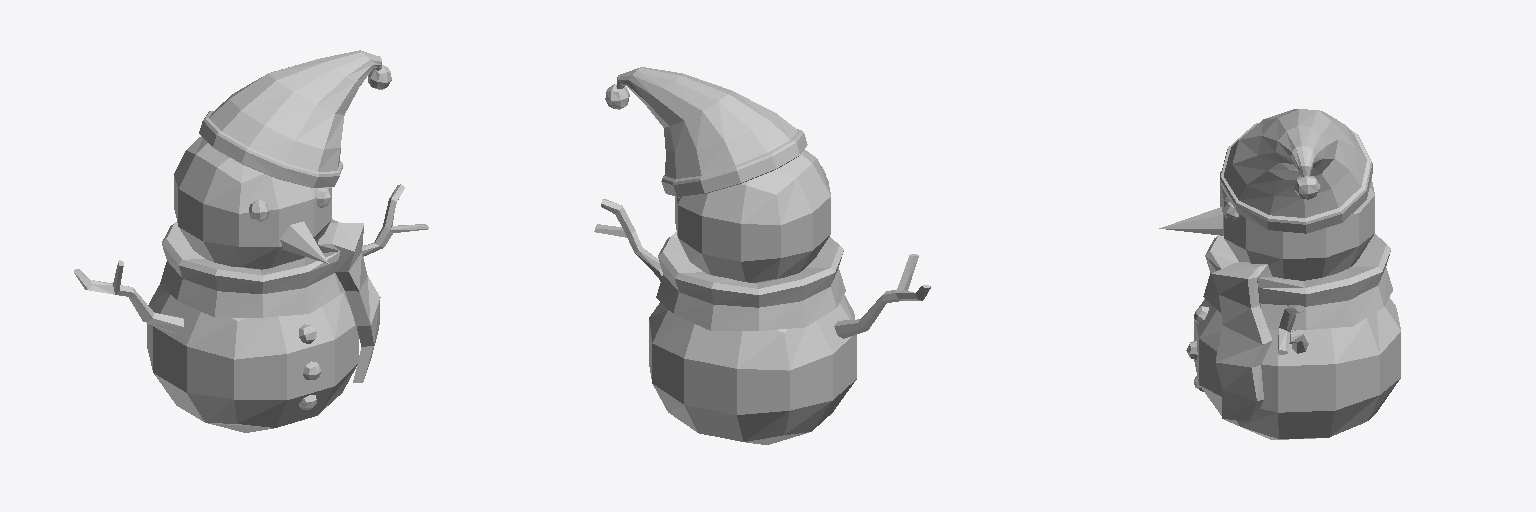
File: snowman_2022.sgm.obj
3 renders of one model, left to right at view 1: azimuth 30°, elevation 25°; view 2: azimuth 150°, elevation 25°; view 3: azimuth 270°, elevation 25°, orthographic.
Bounding box in the file's own units: 0.7855 × 0.7348 × 0.4811.